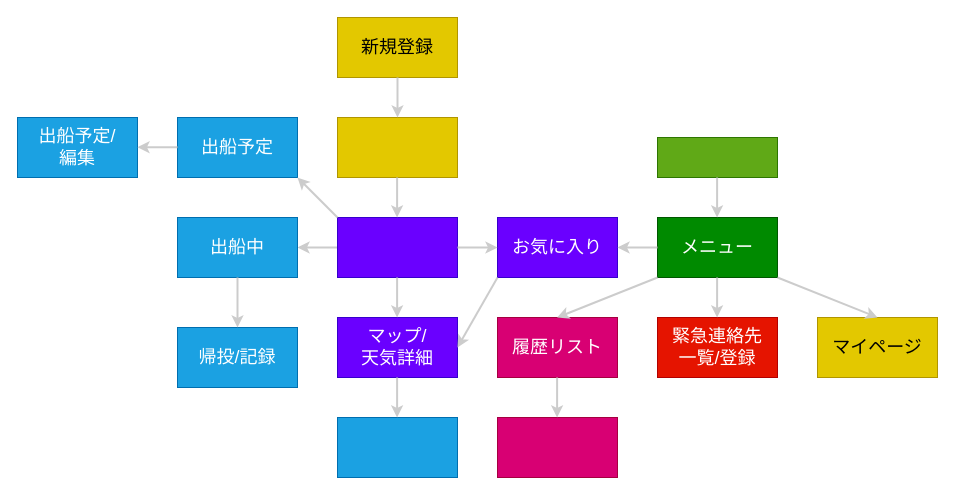
This 955x495 diagram has some shape labels left out. Each missing label, with the box of its shape:
ヘッダーから: (656, 136, 778, 178)
マップ/ ホーム画面: (336, 216, 458, 278)
ログイン: (336, 116, 458, 178)
出船登録: (336, 416, 458, 478)
履歴詳細: (496, 416, 618, 478)
